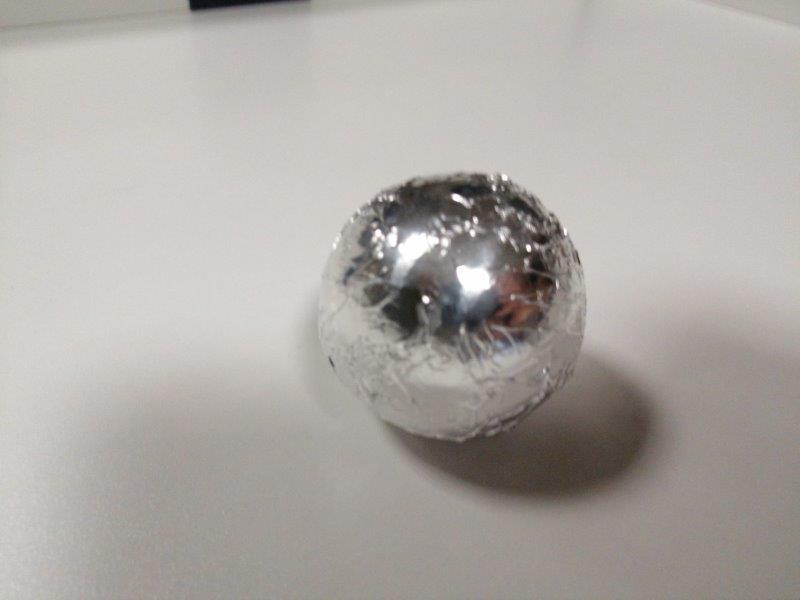bianca: (317, 168, 583, 439)
